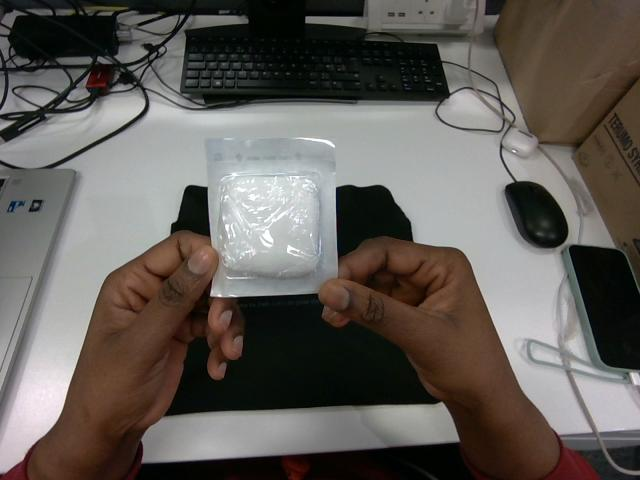gauze: (206, 138, 336, 296)
